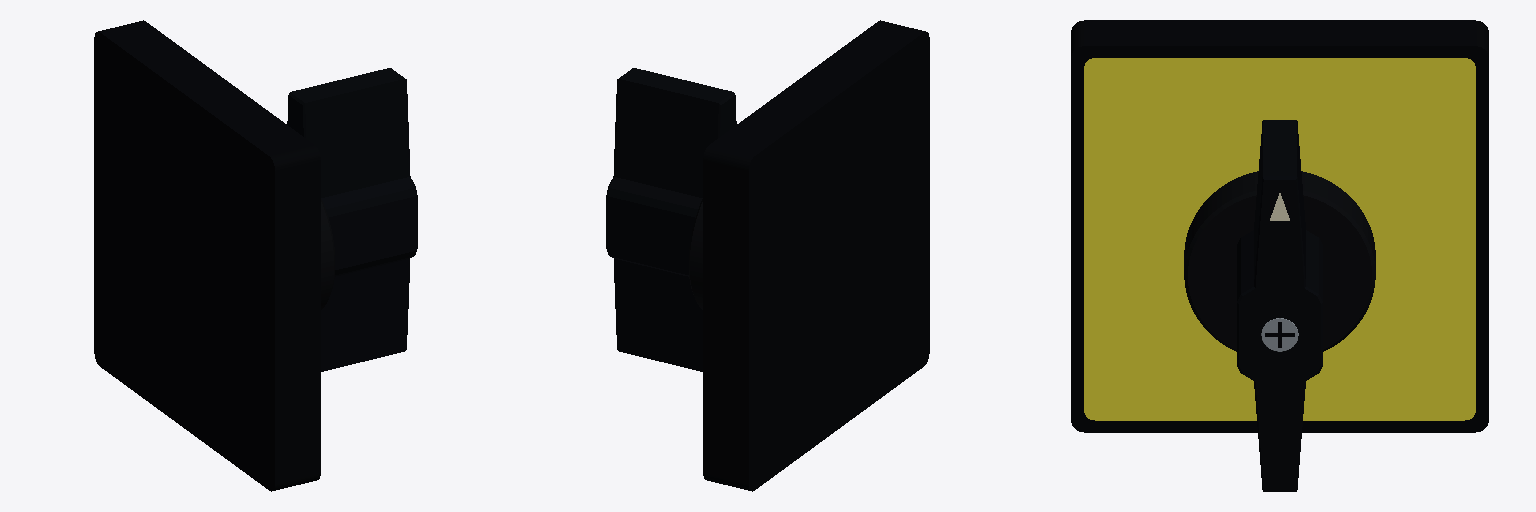
robot.urdf — selector_switch:
<?xml version="1.0" ?>
<!-- =================================================================================== -->
<!-- |    This document was autogenerated by xacro from src/xuanniu_gazebo/urdf/xuanniu.urdf.xacro | -->
<!-- |    EDITING THIS FILE BY HAND IS NOT RECOMMENDED                                 | -->
<!-- =================================================================================== -->
<robot name="selector_switch">
  <link name="xuanniu_mount_link">
    <inertial>
      <mass value=".001"/>
      <inertia ixx="1e-9" ixy="0" ixz="0" iyy="1e-9" iyz="0" izz="1e-9"/>
    </inertial>
  </link>
  <link name="world"/>
  <joint name="xuanniu_world_joint" type="fixed">
    <parent link="world"/>
    <child link="xuanniu_mount_link"/>
    <origin rpy="0 0 0" xyz="0 0 .12"/>
  </joint>
  <link name="xuanniu_frame_link">
    <inertial>
      <origin xyz="0.0035 0 0"/>
      <mass value="0.025"/>
      <inertia ixx="9.802083333333336e-06" ixy="0" ixz="0" iyy="5.104166666666668e-06" iyz="0" izz="4.902083333333334e-06"/>
    </inertial>
    <visual>
      <geometry>
        <mesh filename="package://xuanniu_gazebo/meshes/frame.stl"/>
      </geometry>
      <material name="black">
        <color rgba=".045 .050 .060 1"/>
      </material>
    </visual>
    <collision>
      <origin xyz="0.0035 0 0"/>
      <geometry>
        <box size="0.007 0.048 0.049"/>
      </geometry>
    </collision>
  </link>
  <joint name="xuanniu_mount_joint" type="fixed">
    <parent link="xuanniu_mount_link"/>
    <child link="xuanniu_frame_link"/>
    <origin xyz="0 0 0"/>
  </joint>
  <gazebo reference="xuanniu_frame_link">
    <visual>
      <material>
        <ambient>.045 .050 .060 1</ambient>
        <diffuse>.045 .050 .060 1</diffuse>
        <specular>0.2 0.2 0.2 1</specular>
      </material>
    </visual>
  </gazebo>
  <link name="xuanniu_nameplate_link">
    <inertial>
      <mass value=".001"/>
      <inertia ixx="0.00000035" ixy="0" ixz="0" iyy="0.00000018" iyz="0" izz="0.00000017"/>
    </inertial>
    <visual>
      <geometry>
        <mesh filename="package://xuanniu_gazebo/meshes/nameplate.dae"/>
      </geometry>
    </visual>
  </link>
  <joint name="xuanniu_nameplate_joint" type="fixed">
    <parent link="xuanniu_frame_link"/>
    <child link="xuanniu_nameplate_link"/>
  </joint>
  <gazebo reference="xuanniu_nameplate_joint">
    <preserveFixedJoint>true</preserveFixedJoint>
  </gazebo>
  <link name="xuanniu_rotor_link">
    <inertial>
      <origin xyz=".013 0 0"/>
      <mass value="0.01"/>
      <inertia ixx="9e-07" ixy="0" ixz="0" iyy="1.3e-06" iyz="0" izz="7e-07"/>
    </inertial>
    <visual>
      <geometry>
        <mesh filename="package://xuanniu_gazebo/meshes/rotor.dae"/>
      </geometry>
    </visual>
    <collision>
      <origin rpy="0 1.5707963267948966 0" xyz="0.002 0 0"/>
      <geometry>
        <cylinder length="0.004" radius="0.0025"/>
      </geometry>
    </collision>
    <collision>
      <origin rpy="0 1.5707963267948966 0" xyz="0.007 0 0"/>
      <geometry>
        <cylinder length="0.006" radius="0.011"/>
      </geometry>
    </collision>
    <collision>
      <origin xyz="0.018000000000000002 0 0"/>
      <geometry>
        <box size="0.016 0.01 0.01"/>
      </geometry>
    </collision>
    <collision>
      <origin xyz="0.018000000000000002 0 0.0125"/>
      <geometry>
        <box size="0.016 0.004 0.015"/>
      </geometry>
    </collision>
    <collision>
      <origin xyz="0.018000000000000002 0 -0.0125"/>
      <geometry>
        <box size="0.016 0.004 0.015"/>
      </geometry>
    </collision>
  </link>
  <joint name="xuanniu_selector_joint" type="revolute">
    <parent link="xuanniu_frame_link"/>
    <child link="xuanniu_rotor_link"/>
    <origin xyz="0.007 0 0"/>
    <axis xyz="1 0 0"/>
    <limit effort=".04" lower="-0.7853981633974483" upper="0.7853981633974483" velocity="4"/>
    <dynamics damping="0" friction="0"/>
  </joint>
  <gazebo reference="xuanniu_rotor_link">
    <mu1>0.7</mu1>
    <mu2>0.7</mu2>
    <kp>100000</kp>
    <kd>1</kd>
    <minDepth>0.000001</minDepth>
    <maxVel>0.01</maxVel>
  </gazebo>
  <gazebo>
    <plugin filename="libxuanniu_selector_plugin.so" name="xuanniu_control">
      <robotNamespace>/xuanniu</robotNamespace>
      <jointName>xuanniu_selector_joint</jointName>
      <targetSpeed>1.5707963267948966</targetSpeed>
      <positionGain>.035</positionGain>
      <velocityGain>.00032</velocityGain>
      <detentTorque>.0015</detentTorque>
    </plugin>
  </gazebo>
</robot>

--- Render facts (derived) ---
The picture shows the robot from 3 angles, left to right: view 1: azimuth 30°, elevation 25°; view 2: azimuth 150°, elevation 25°; view 3: azimuth 270°, elevation 25°; orthographic projection.
Model selector_switch with 5 links and 4 joints (1 revolute, 3 fixed), rooted at world, posed every joint at zero.
Visible links, largest first — view 1: xuanniu_frame_link, xuanniu_rotor_link; view 2: xuanniu_frame_link, xuanniu_rotor_link; view 3: xuanniu_nameplate_link, xuanniu_rotor_link, xuanniu_frame_link.
Link boxes in pixels (<box>): xuanniu_frame_link: <box>94,20,320,491</box>; xuanniu_rotor_link: <box>287,68,417,371</box>; xuanniu_frame_link: <box>703,20,929,491</box>; xuanniu_rotor_link: <box>606,68,736,371</box>; xuanniu_nameplate_link: <box>1084,58,1475,420</box>; xuanniu_rotor_link: <box>1184,120,1375,491</box>; xuanniu_frame_link: <box>1071,20,1488,432</box>.
Bounding box of the posed robot: 0.033 × 0.048 × 0.049 m (x, y, z).
Meshes: 3 distinct files referenced, 3 mesh visuals loaded (1 binary STL, 2 Collada DAE).
